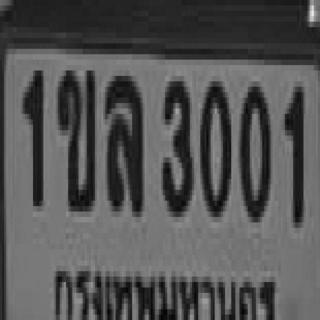A02: (56, 65, 93, 206)
A36: (103, 70, 140, 206)
N00: (198, 76, 229, 212), (238, 82, 268, 217)
N01: (21, 65, 41, 201), (283, 81, 302, 222)
N03: (161, 76, 190, 212)
P04: (47, 257, 280, 320)
